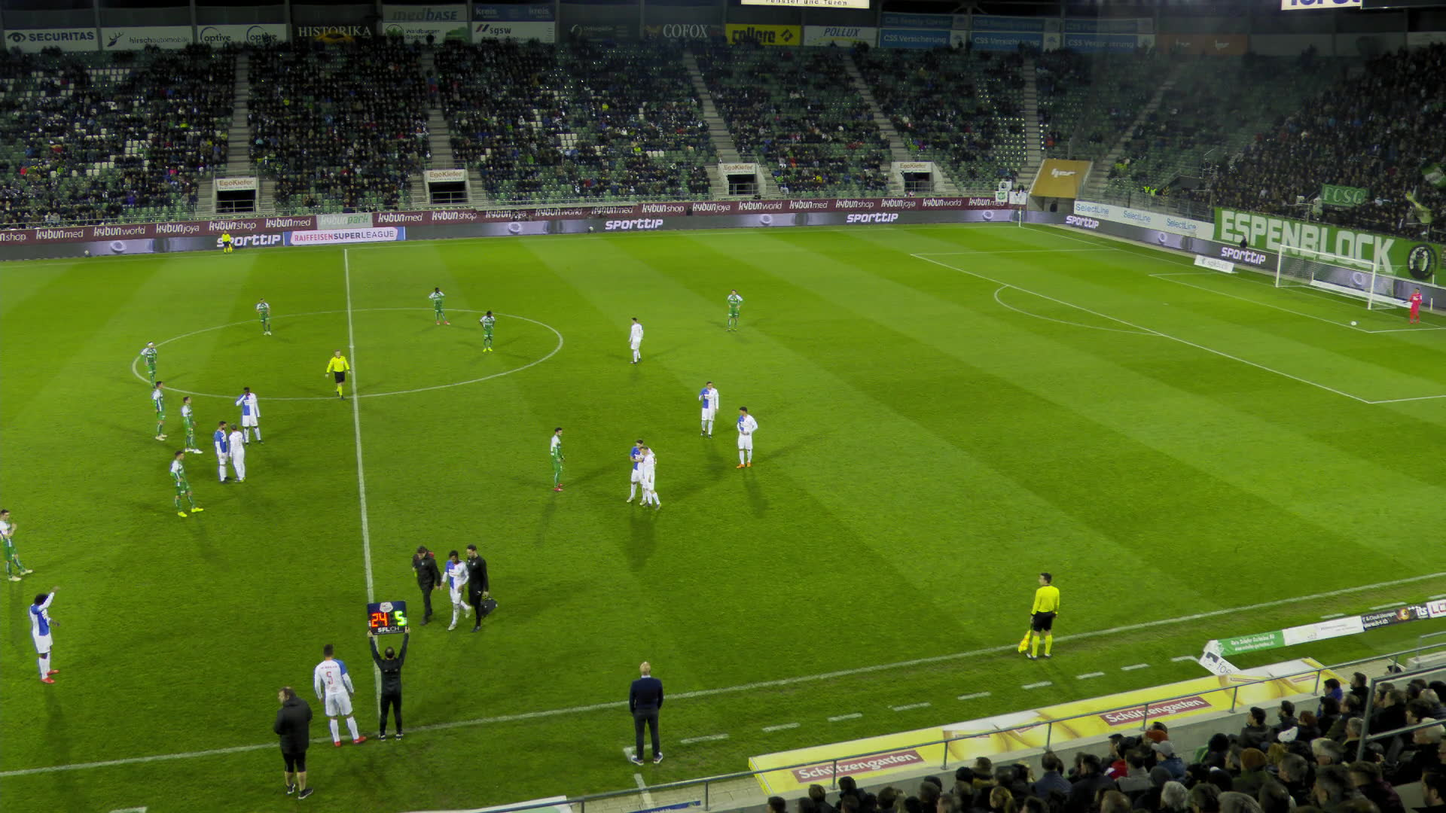ball: (368, 626, 410, 741), (461, 546, 502, 632), (410, 541, 446, 623), (1350, 320, 1356, 324)
player: (315, 644, 366, 747), (29, 583, 60, 683), (441, 549, 472, 628), (0, 509, 32, 581), (169, 450, 203, 517), (635, 441, 664, 510), (233, 384, 264, 445), (627, 438, 653, 504), (733, 403, 758, 468), (226, 424, 251, 485), (547, 424, 569, 490), (149, 379, 170, 442), (213, 419, 233, 484), (697, 379, 718, 437), (181, 396, 201, 452), (428, 286, 450, 325), (139, 341, 157, 386), (725, 288, 744, 330), (629, 315, 645, 364), (256, 298, 274, 336), (480, 311, 496, 353), (1406, 287, 1421, 323)
referee: (1019, 572, 1061, 664), (325, 349, 352, 400), (221, 230, 232, 254)
